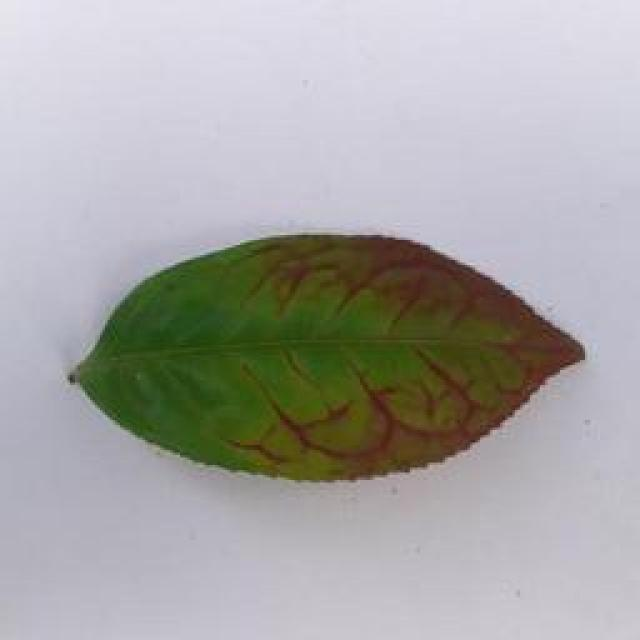Red Leaf Spot: (54, 218, 596, 488)
